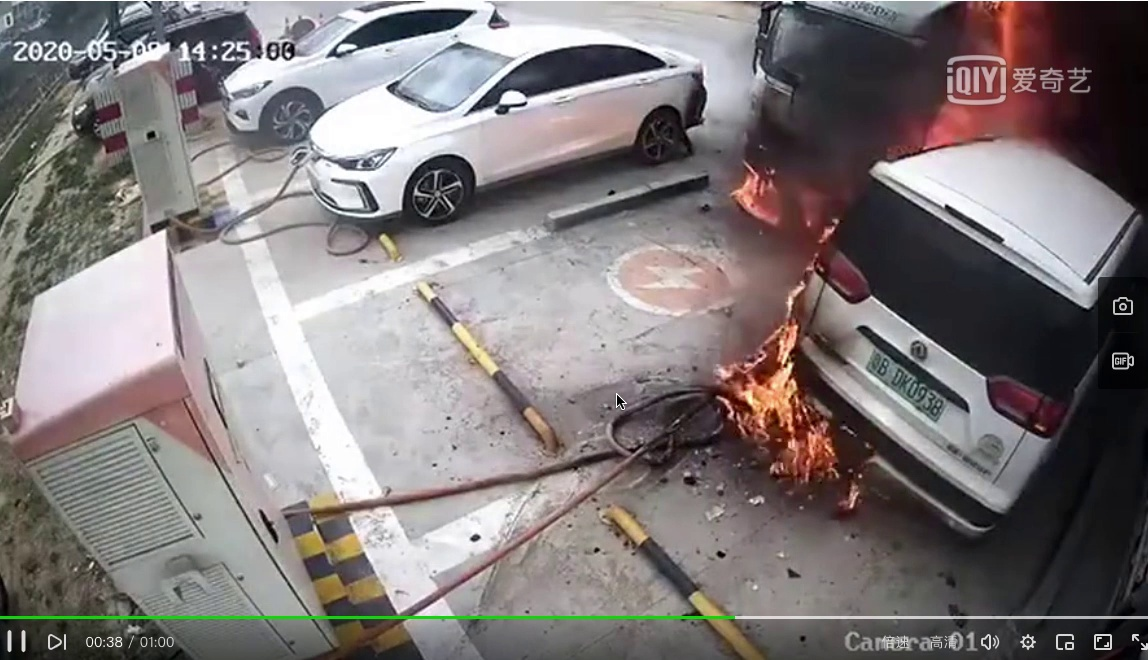fire: (721, 325, 848, 479), (745, 171, 846, 252)
